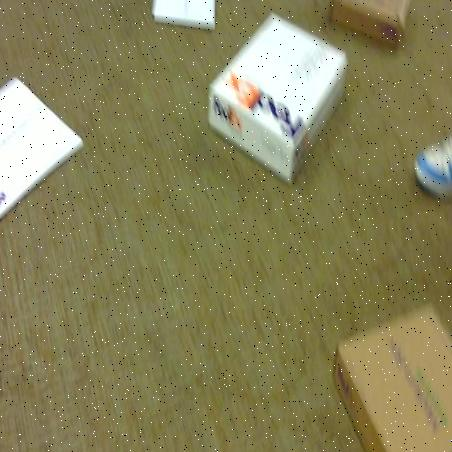Amazon: (208, 11, 337, 173), (0, 84, 82, 236)
